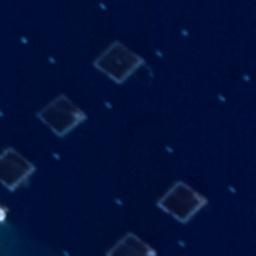square_cover: (92, 38, 149, 84), (37, 92, 89, 141), (156, 178, 209, 225), (1, 146, 35, 196), (103, 230, 159, 256)
